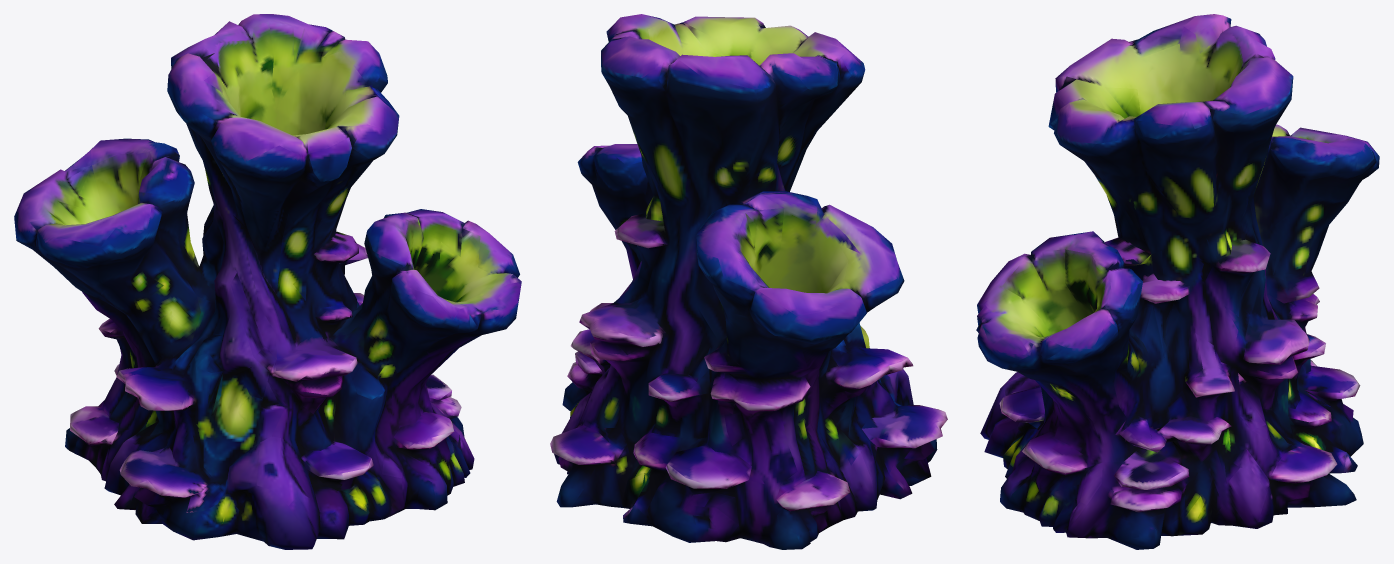
The model's file is fungal-spore-vent_LOD0.glb.
3 views of the same model, side by side, from view 1: azimuth 30°, elevation 25°; view 2: azimuth 150°, elevation 25°; view 3: azimuth 270°, elevation 25° (orthographic). The views are drawn at different scales.
Parts seen in each view (by area): view 1: fungal-spore-vent_LOD0; view 2: fungal-spore-vent_LOD0; view 3: fungal-spore-vent_LOD0.
Boxes of the visible parts, x1,y1,x2,y2 form: fungal-spore-vent_LOD0: (14,14,521,549); fungal-spore-vent_LOD0: (550,14,947,549); fungal-spore-vent_LOD0: (976,14,1379,549).
Size of the model in its own units: 1.06 by 1.1 by 0.9529.
Materials: 1 (1 with a texture image).
